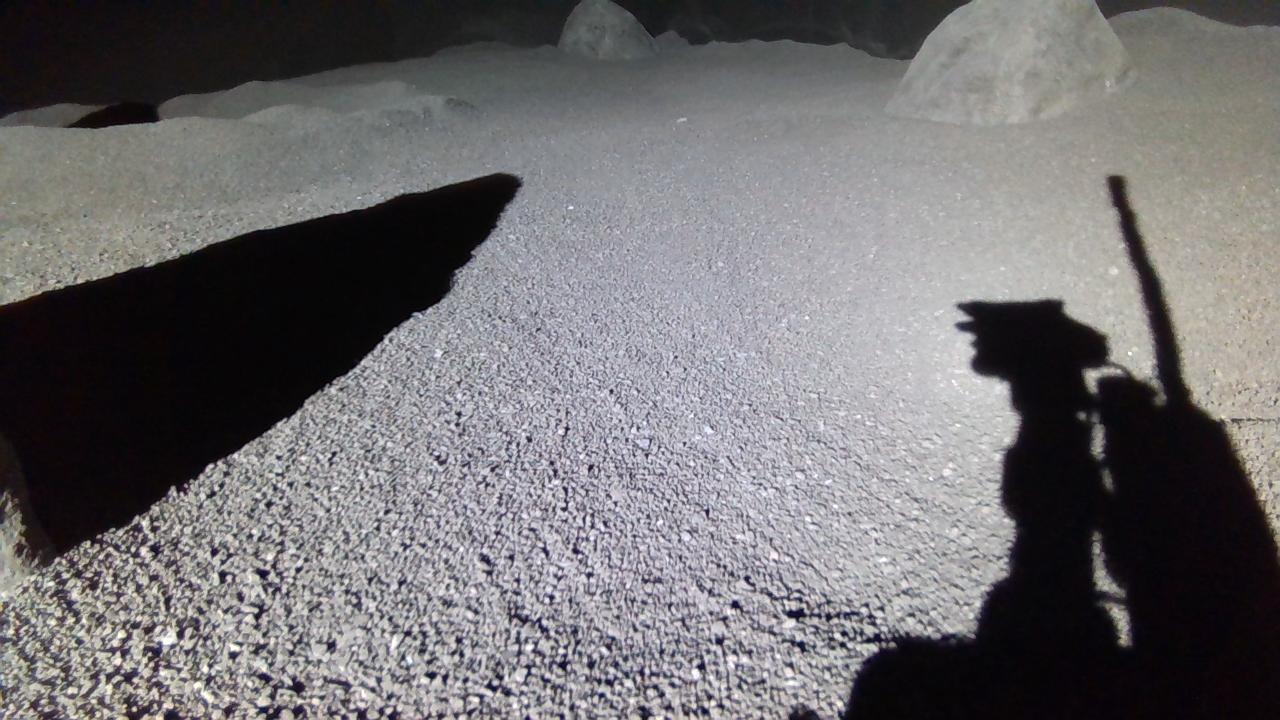rock: (888, 0, 1139, 124), (0, 435, 54, 592), (558, 0, 659, 57)
